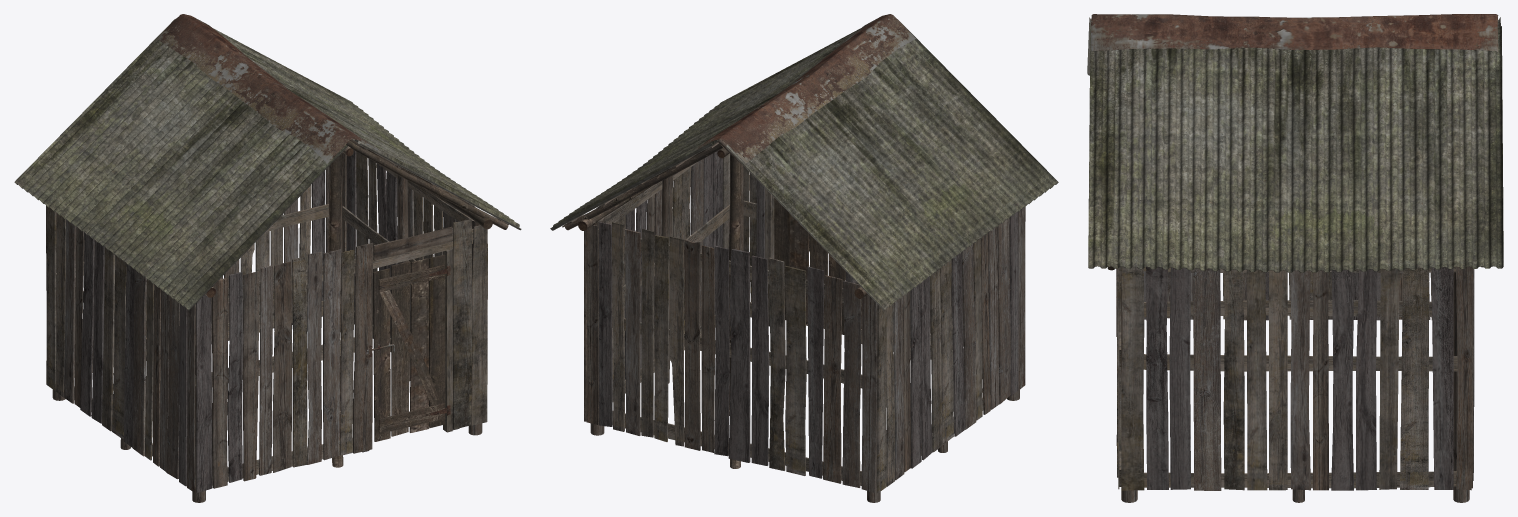
File: shed.fbx
3 views of the same model, side by side, from view 1: azimuth 30°, elevation 25°; view 2: azimuth 150°, elevation 25°; view 3: azimuth 270°, elevation 25° (orthographic). The views are drawn at different scales.
Parts seen in each view (by area): view 1: Base, Roof, Door; view 2: Base, Roof, Door; view 3: Roof, Base.
Boxes of the visible parts, bbox=[...] form: Base: bbox=[46, 139, 508, 502]; Roof: bbox=[14, 14, 521, 310]; Door: bbox=[373, 254, 445, 441]; Base: bbox=[562, 139, 1025, 502]; Roof: bbox=[550, 14, 1058, 310]; Door: bbox=[774, 198, 845, 334]; Roof: bbox=[1087, 14, 1503, 272]; Base: bbox=[1107, 266, 1483, 502].
Bounding box in the file's own units: 339 × 328 × 306.
2 materials, 2 textured.
